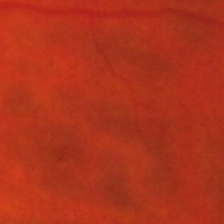MA: (56, 146, 67, 162)
